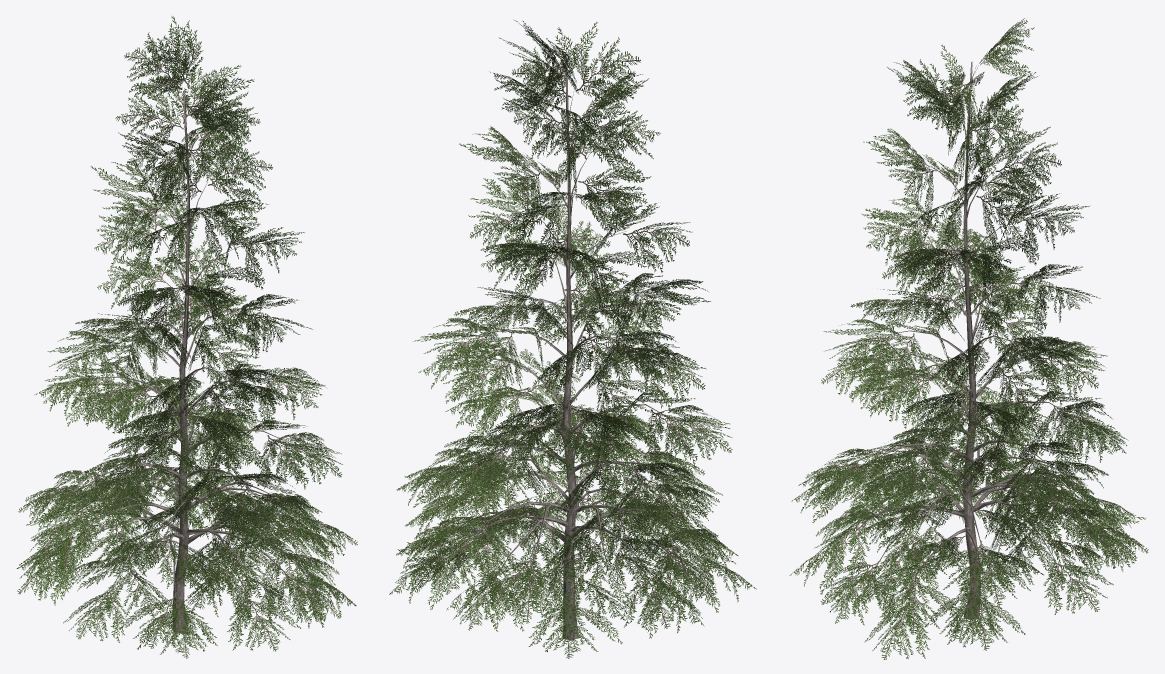
File: tree_fir.glb
3 views of the same model, side by side, from view 1: azimuth 30°, elevation 25°; view 2: azimuth 150°, elevation 25°; view 3: azimuth 270°, elevation 25° (orthographic). The views are drawn at different scales.
Parts seen in each view (by area): view 1: m; view 2: m; view 3: m.
Boxes of the visible parts, box(x1,y1,x2,y2) form: m: box(16, 16, 357, 658); m: box(389, 19, 756, 658); m: box(789, 18, 1148, 659).
Size of the model in its own units: 0.5438 by 1 by 0.5386.
2 materials, 2 textured.
